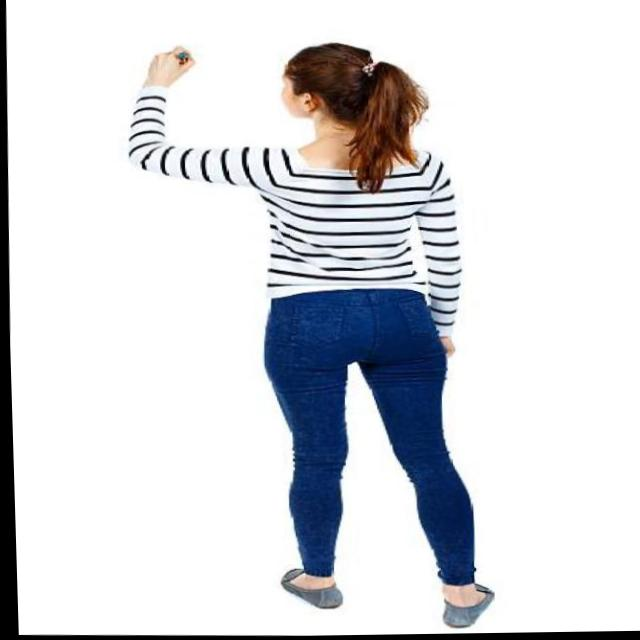no helmet: (275, 36, 433, 166)
